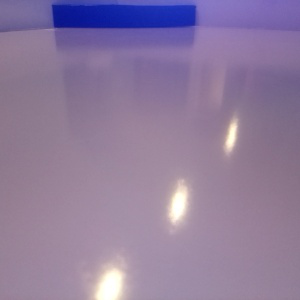zone: (52, 5, 196, 28)
